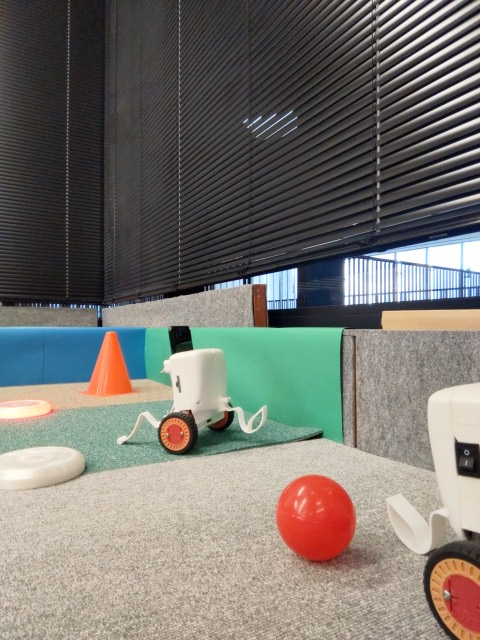bl: (121, 324, 268, 452)
br: (377, 379, 480, 640)
o: (1, 446, 86, 491)
r: (1, 399, 53, 421)
